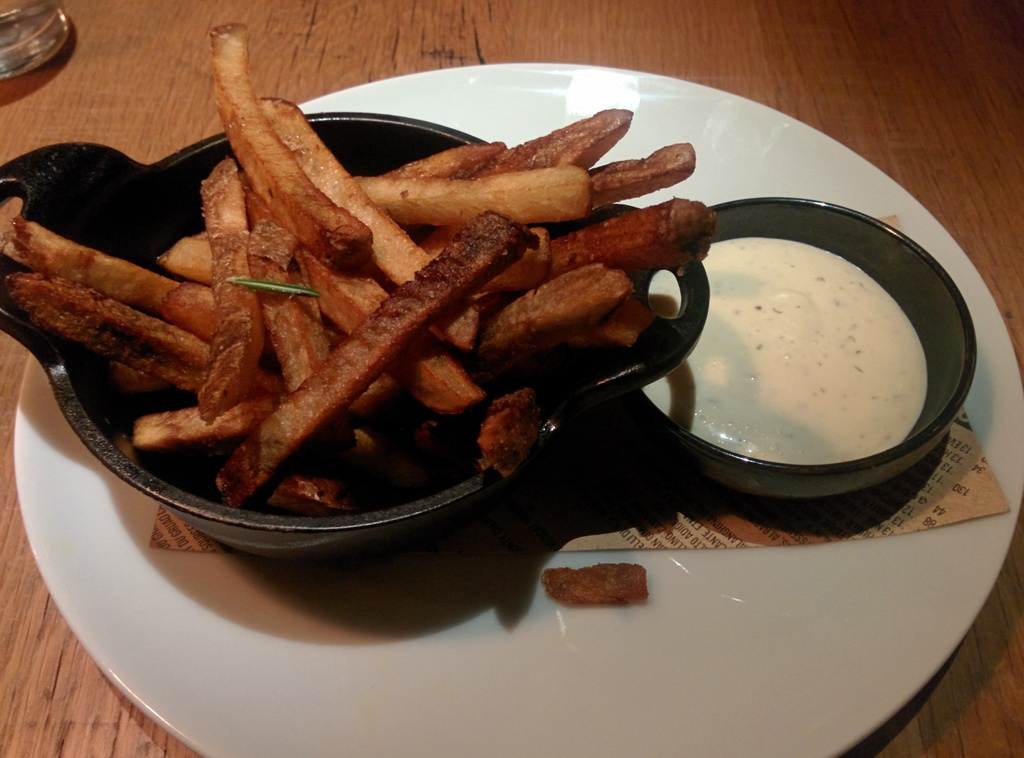French fries: (61, 90, 697, 501)
